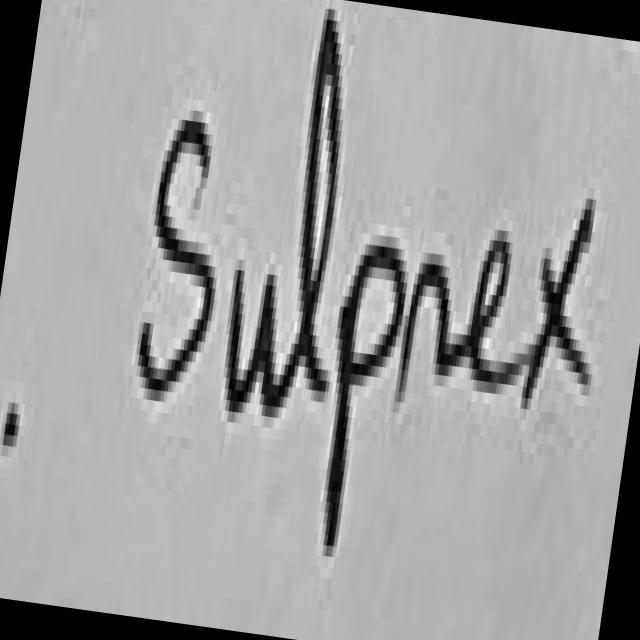S: (140, 121, 215, 400)
e: (471, 231, 527, 392)
l: (293, 10, 342, 390)
p: (328, 245, 407, 557)
r: (398, 264, 473, 398)
u: (227, 275, 286, 417)
x: (524, 199, 595, 404)
